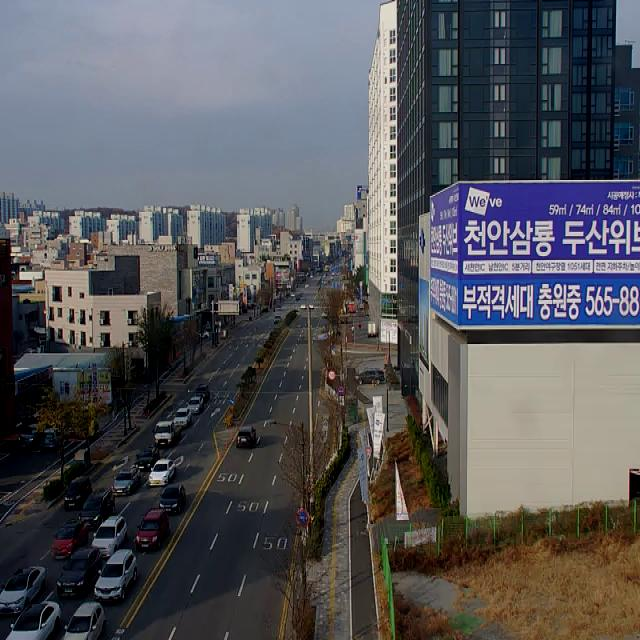Car: (57, 546, 101, 597), (0, 566, 46, 614), (95, 550, 137, 602), (6, 601, 61, 640), (61, 602, 106, 640), (90, 516, 126, 558), (136, 509, 170, 552), (79, 489, 115, 529), (52, 520, 87, 560), (64, 476, 92, 509), (111, 468, 141, 496), (148, 460, 175, 486), (160, 485, 185, 513), (132, 446, 159, 471), (40, 427, 66, 451), (17, 424, 40, 450), (355, 368, 385, 384), (236, 426, 256, 450), (173, 408, 191, 427), (186, 397, 204, 415), (196, 384, 210, 401), (274, 314, 281, 324)
Truck: (152, 422, 182, 446), (368, 319, 379, 336)
